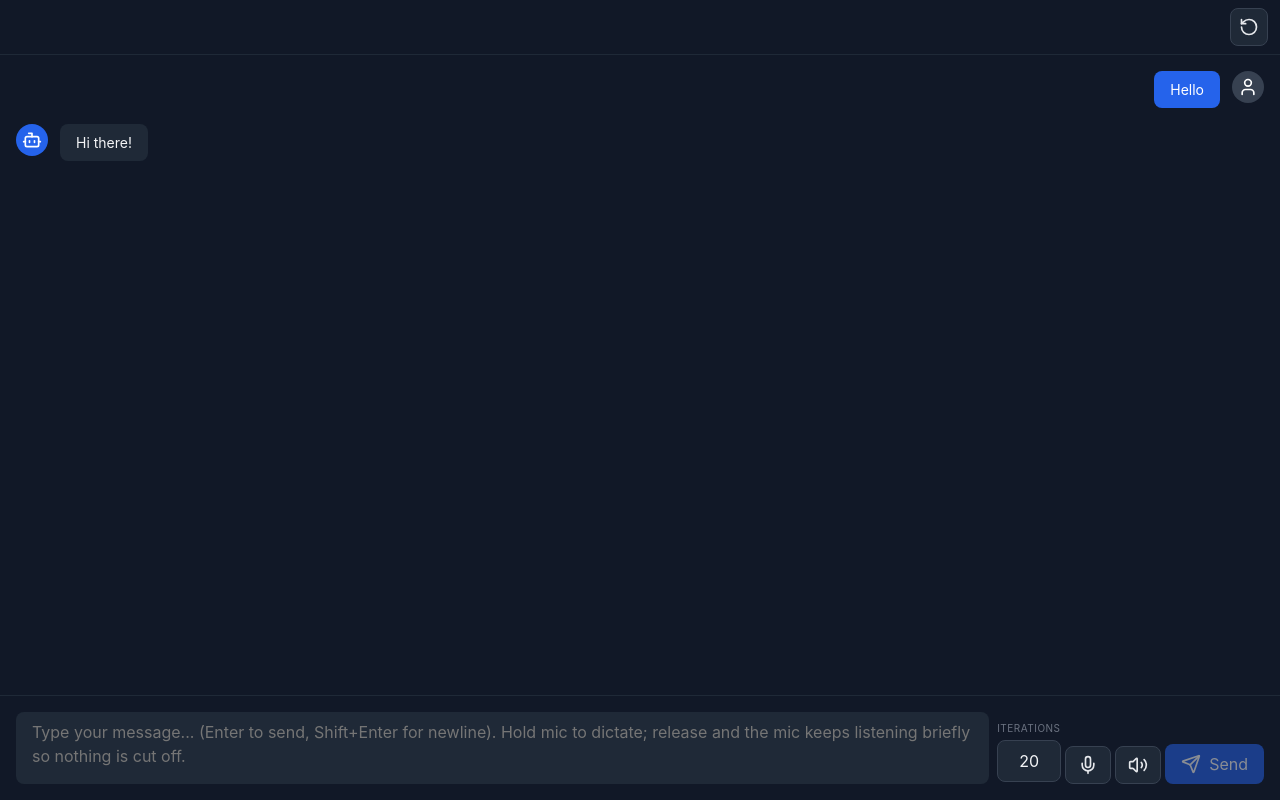
Scenario: WorkflowChat › should clear chat session, remove storage, and reset to greeting
The width and height of the screenshot is (1280, 800).
Check: the text "Hello" is shown, box x1=1170 y1=79 x2=1204 y2=100
Replace the text in the text box with placeholder "Type your message" with "draft" at (503, 748), box x1=16 y1=712 x2=989 y2=784
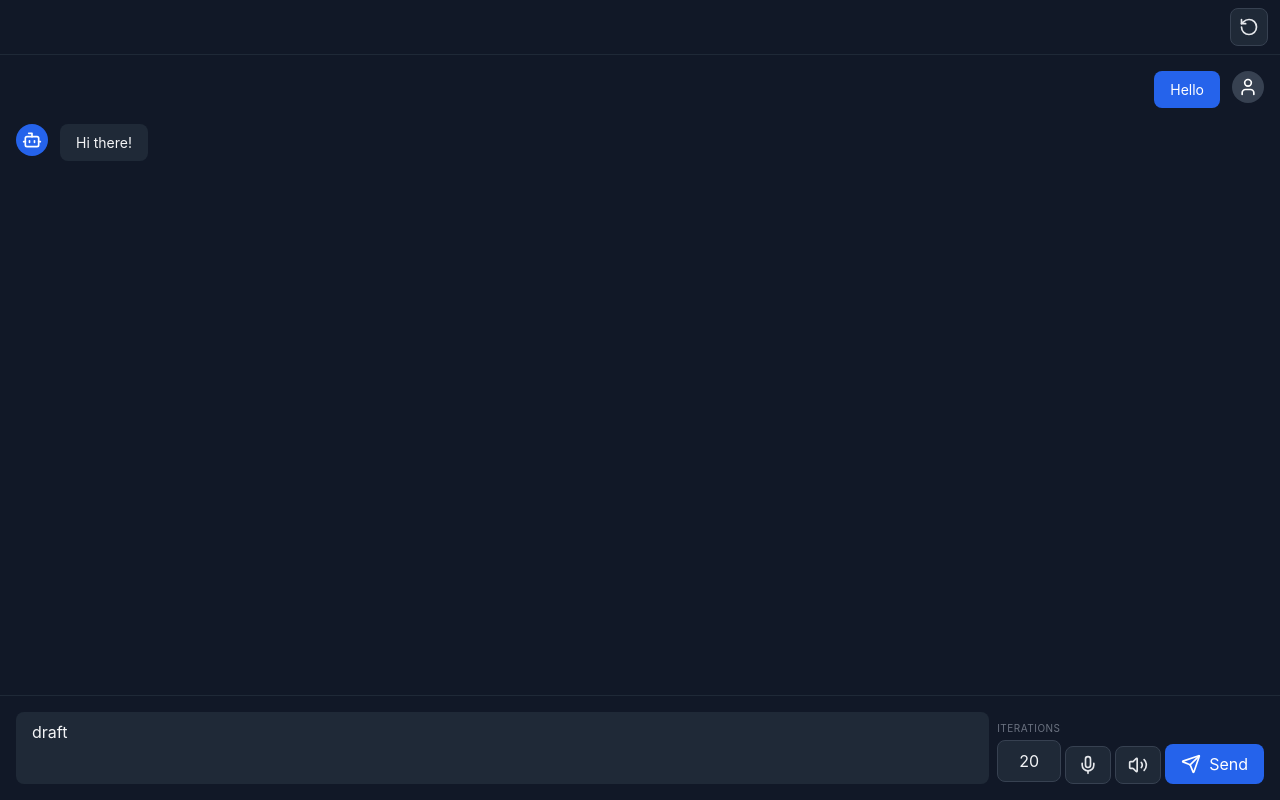
Click the button named "clear chat and start over" at (1249, 27), box x1=1230 y1=8 x2=1268 y2=46
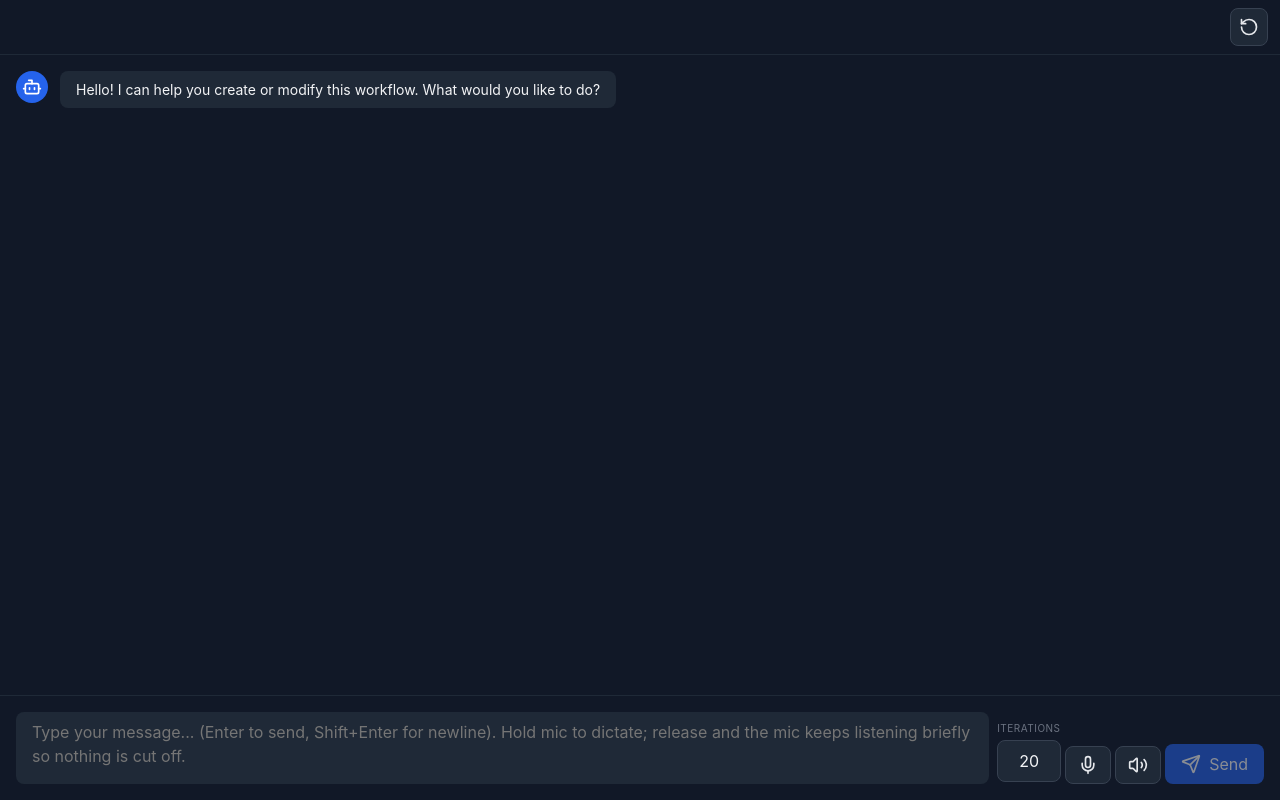
Check: the text "Hi there!" is gone
Check: the text "Hello! I can help you create or modify this workflow" is shown, box x1=76 y1=81 x2=600 y2=98
Check: the text box with placeholder "Type your message" is empty, box x1=16 y1=712 x2=989 y2=784
